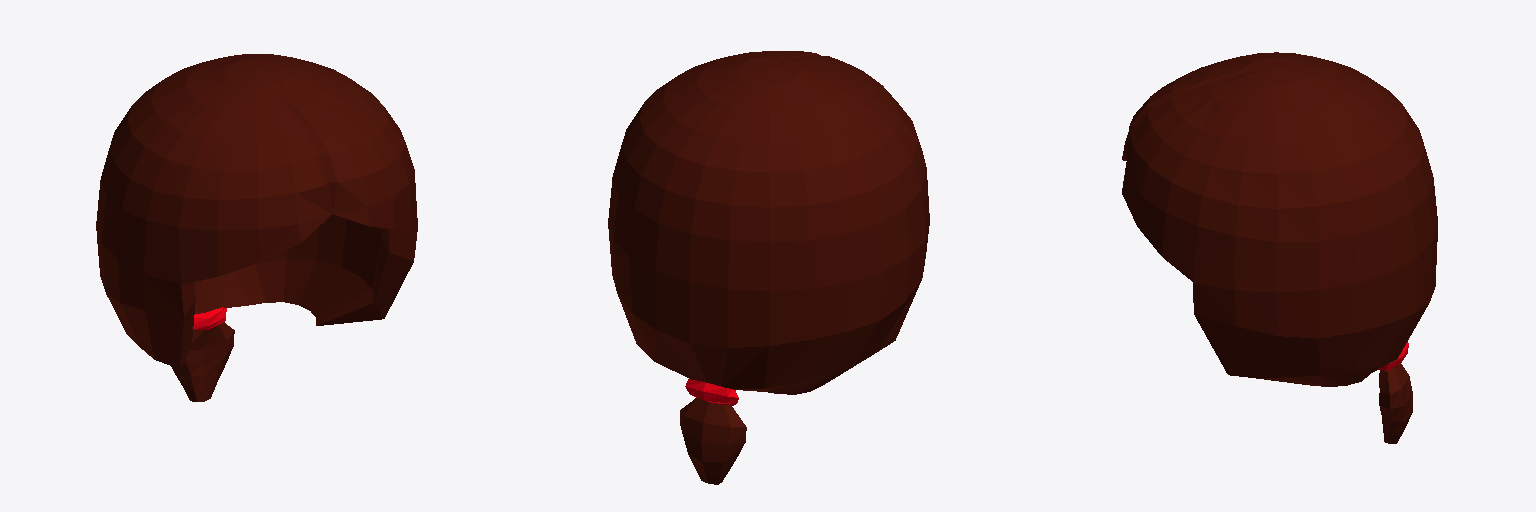
Rendered from mageHairB.obj.
3 renders of one model, left to right at view 1: azimuth 30°, elevation 25°; view 2: azimuth 150°, elevation 25°; view 3: azimuth 270°, elevation 25°, orthographic.
Parts seen in each view (by area): view 1: mageHairB_Cube.3534; view 2: mageHairB_Cube.3534; view 3: mageHairB_Cube.3534.
Boxes of the visible parts, x1=… form: mageHairB_Cube.3534: x1=96, y1=54, x2=417, y2=401; mageHairB_Cube.3534: x1=608, y1=51, x2=929, y2=484; mageHairB_Cube.3534: x1=1122, y1=52, x2=1437, y2=443.
Bounding box in the file's own units: 1.11 × 1.42 × 1.09.